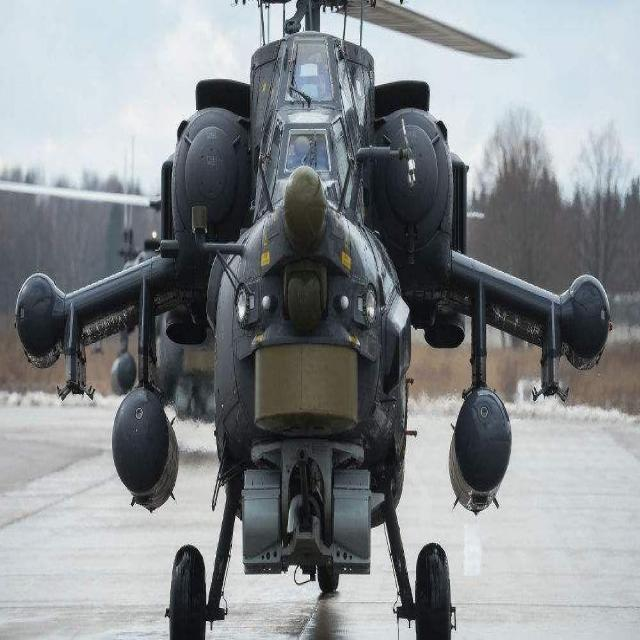MIL_HELO: (9, 0, 612, 640)
